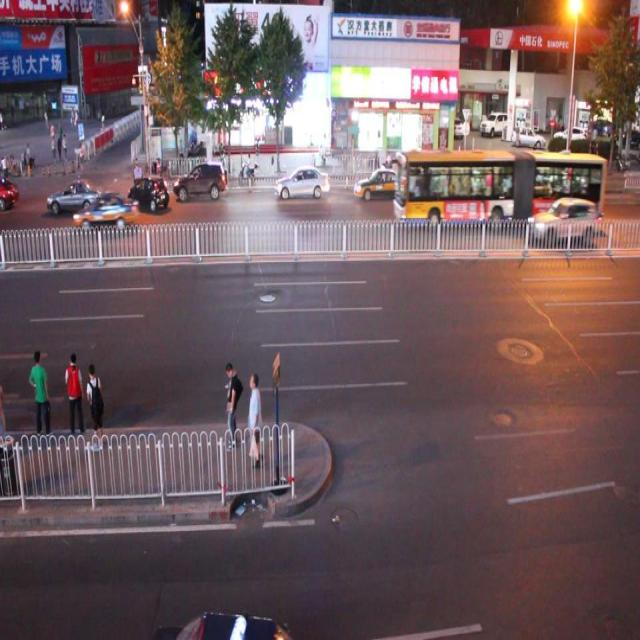car: (150, 610, 302, 640), (528, 194, 595, 242), (74, 192, 139, 230), (172, 161, 228, 199), (274, 164, 330, 200), (353, 165, 408, 201), (48, 181, 104, 216), (128, 175, 170, 213), (1, 175, 20, 211)
van: (392, 146, 604, 226)
